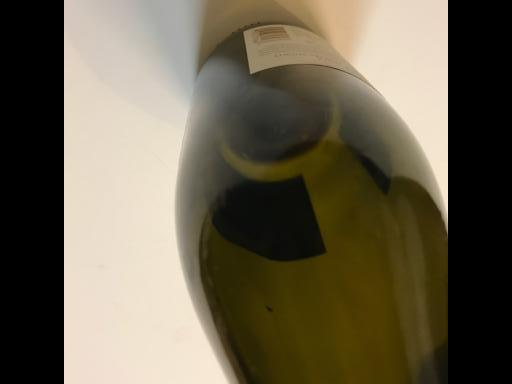trash: (174, 9, 447, 382)
